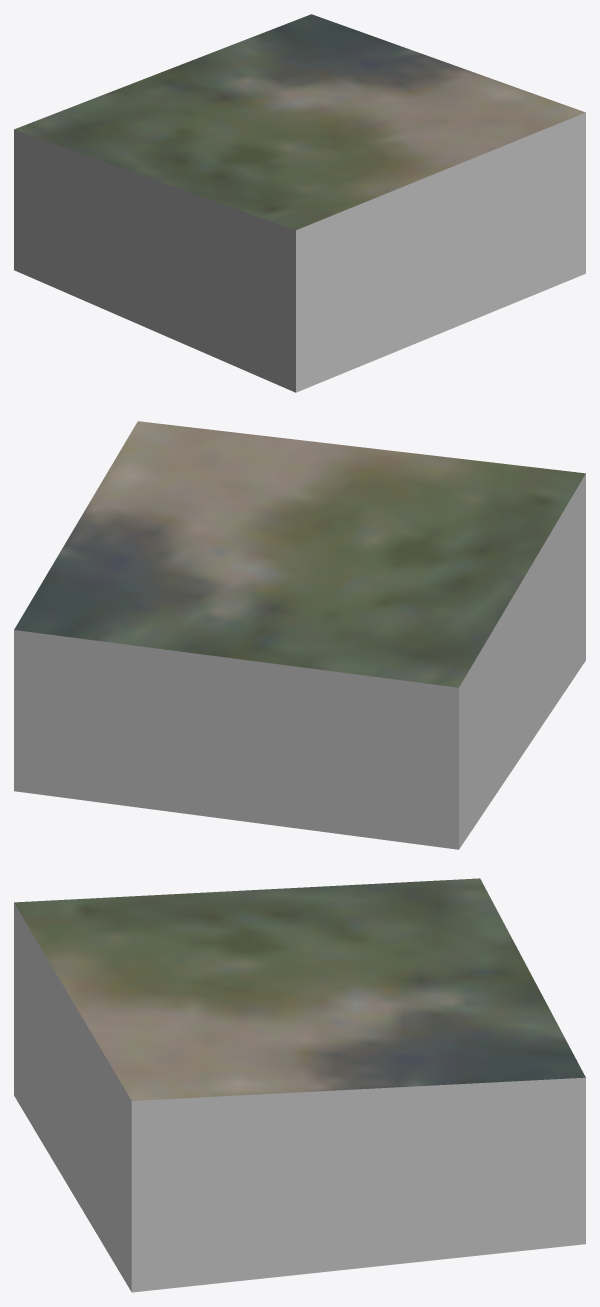
The model's file is DEBW_0010007Txeq.gltf.
3 renders of one model, top to bottom at view 1: azimuth 30°, elevation 25°; view 2: azimuth 150°, elevation 25°; view 3: azimuth 270°, elevation 25°, orthographic. The views are drawn at different scales.
Visible parts, largest first — view 1: Z_UP; view 2: Z_UP; view 3: Z_UP.
Boxes of the visible parts, x1,y1,x2,y2 form: Z_UP: (14, 14, 585, 392); Z_UP: (14, 421, 585, 849); Z_UP: (14, 878, 585, 1292).
Size of the model in its own units: 7.29 by 2.66 by 7.14.
2 materials, 1 textured.
